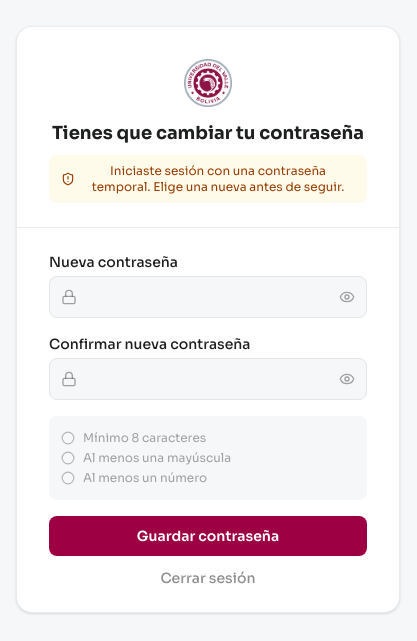
Test case: CambiarContrasenaObligatoriaPage › avisa si las contraseñas no coinciden
The width and height of the screenshot is (417, 641).
Type "ContrasenaSegura1" into the password field labelled "Nueva contraseña" at (208, 296), box [49, 276, 367, 318]
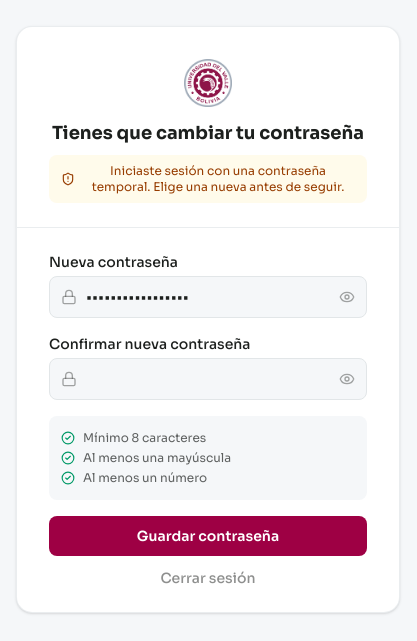
Type "OtraDistinta1" into the password field labelled "Confirmar nueva contraseña" at (208, 378), box [49, 358, 367, 400]
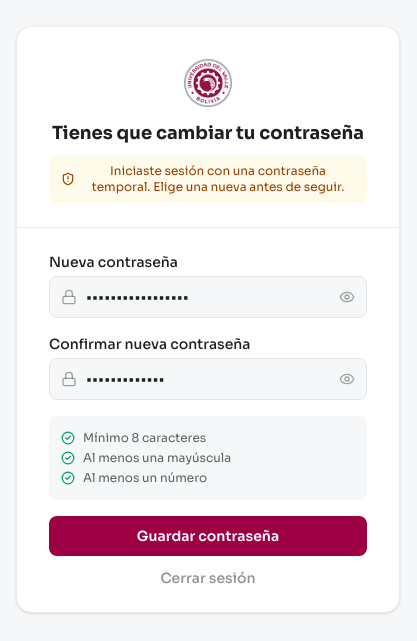
Click the button "Guardar contraseña" at (208, 536), box [49, 516, 367, 556]
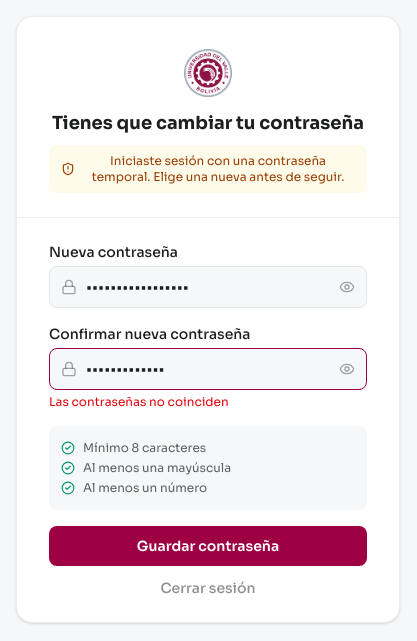
Now the text "Las contraseñas no coinciden" is shown, box [49, 394, 229, 408]
